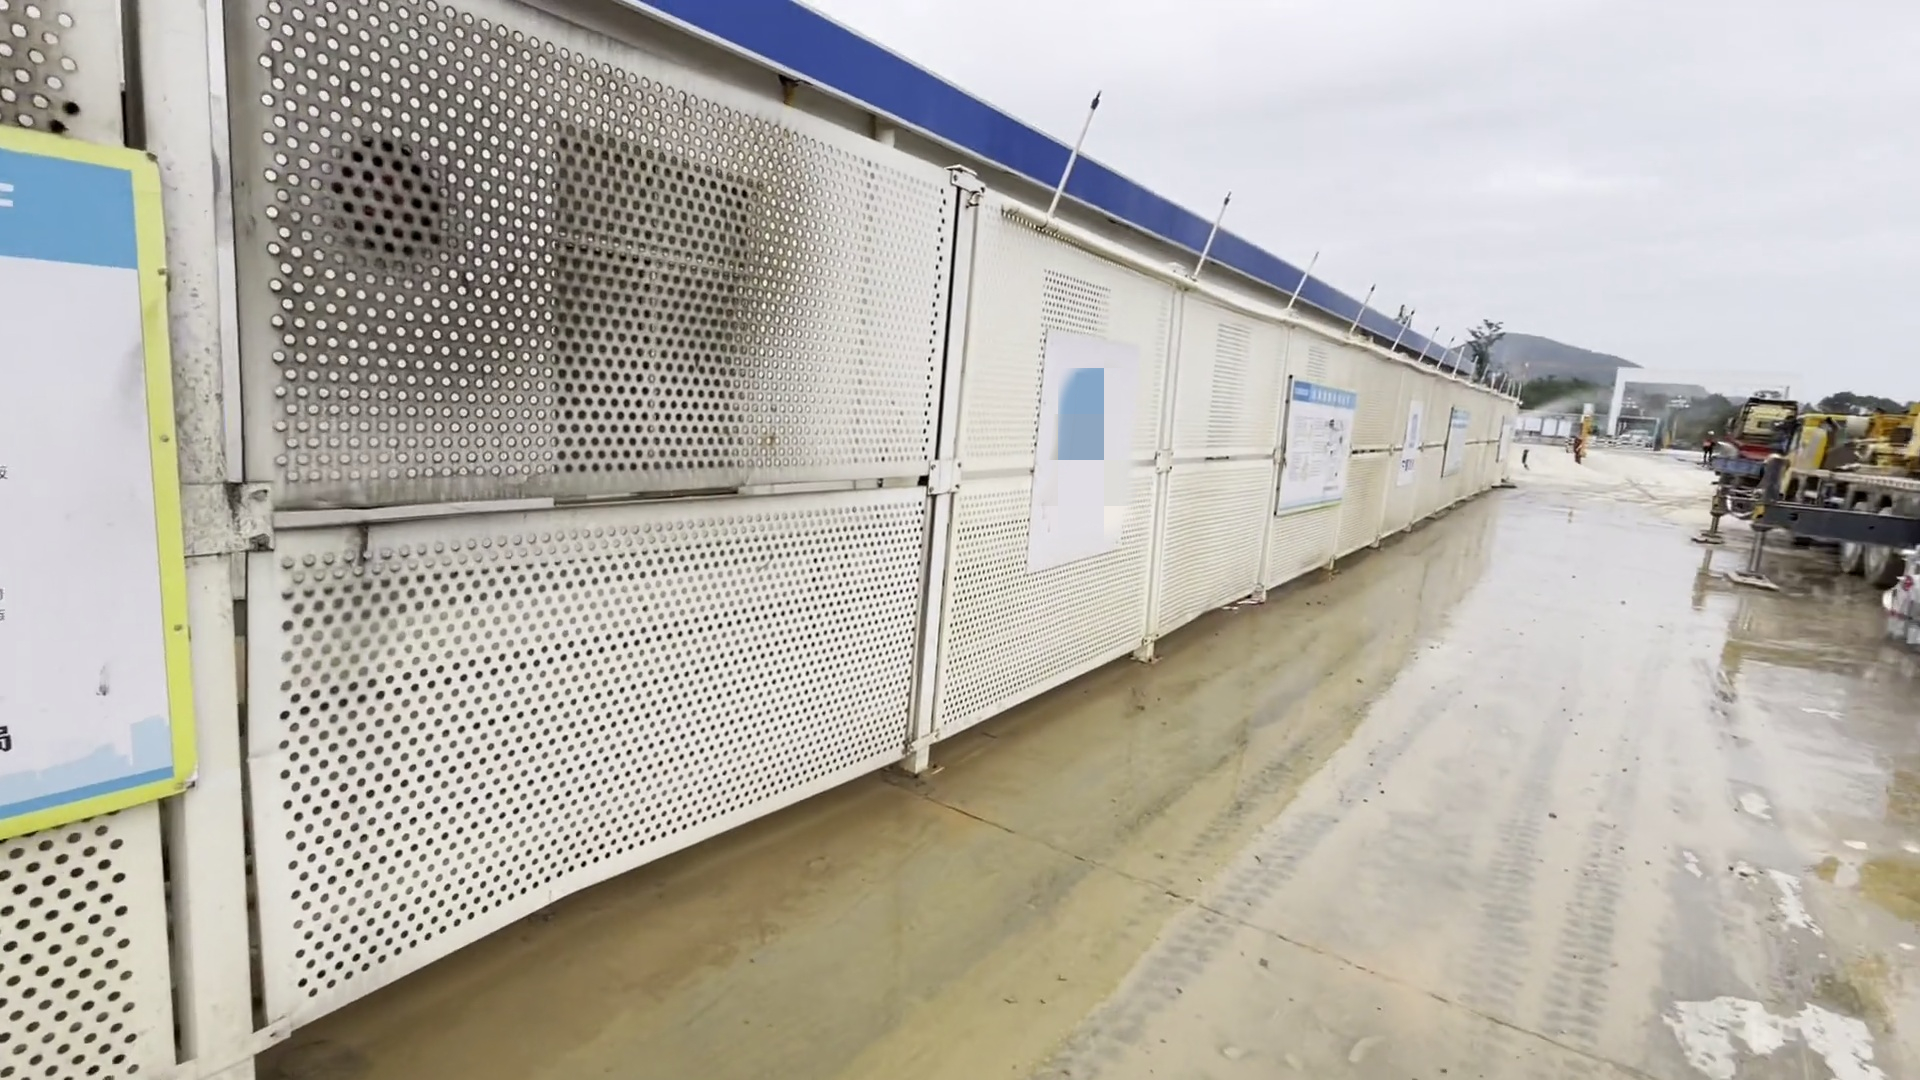slogan: (1291, 385, 1356, 522)
